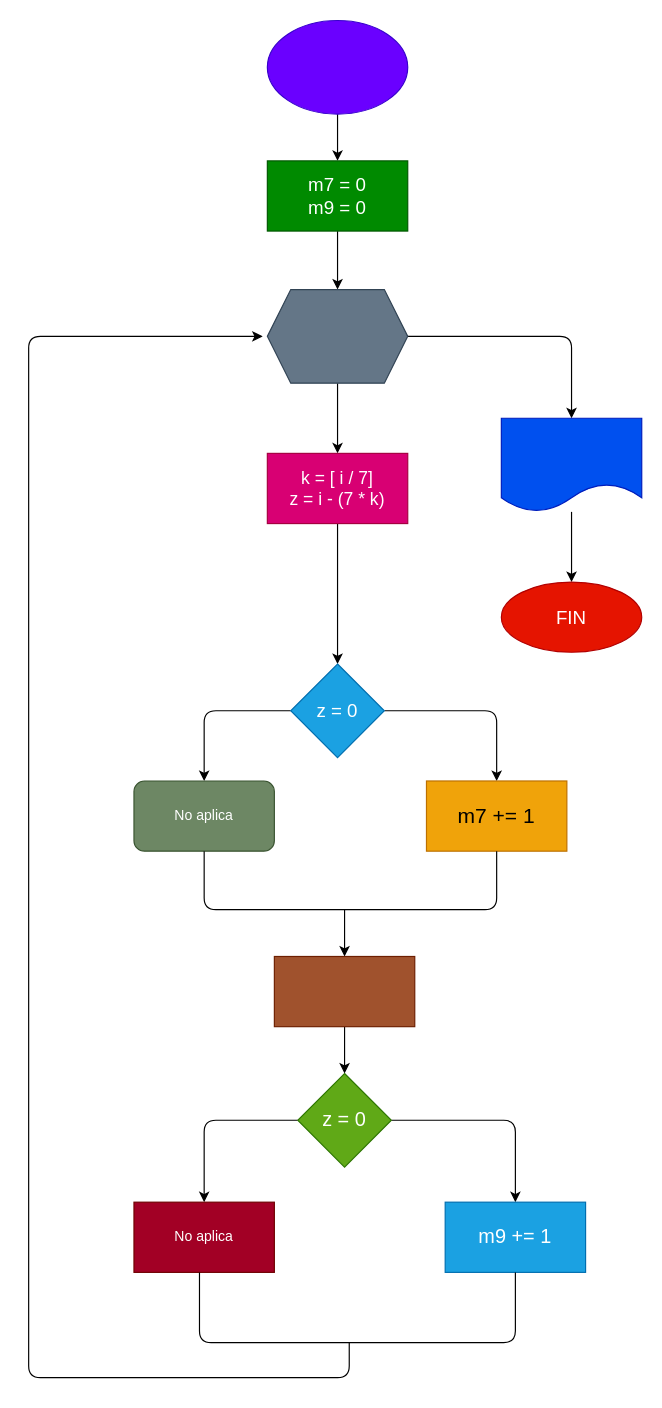
Image size: 662x1408. Some labels were removed from this diagram. The box of each missing label's shape, as (x1, y1, x2, y2) in pixels:
i = (1000, 5000): (266, 288, 408, 383)
INICIO: (266, 19, 408, 114)
k = [ i / 9] z = i - (9 * k): (273, 955, 415, 1027)
m7, m9: (500, 417, 642, 512)
